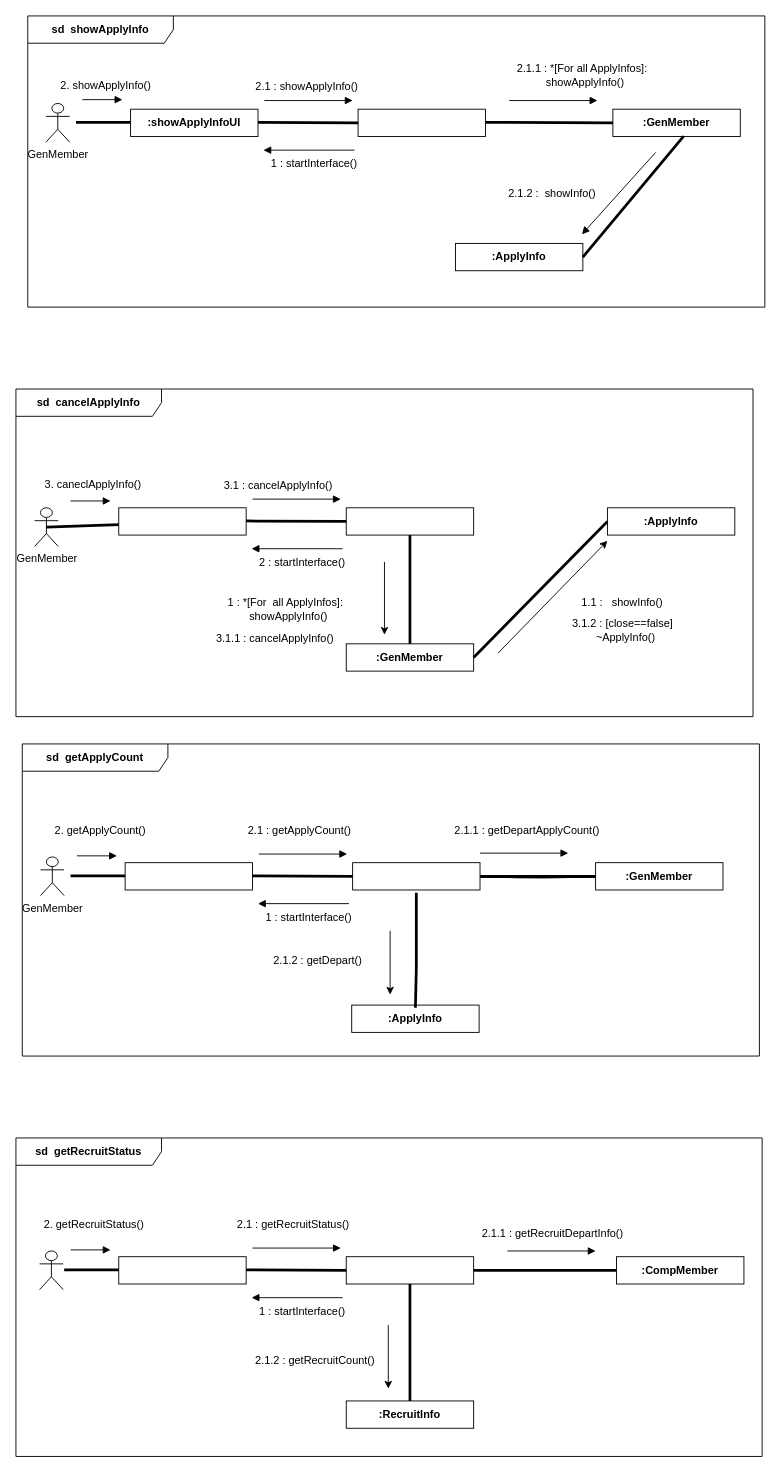
Some shapes in this 781 by 1472 pixel diagram are drawn without their labels. Here are the shapes that lost their labels. From the top down, the centre of each, then its label:
At point (421, 122): ": showApplyInfo".
At point (182, 521): ":cancelApplyInfoUI".
At point (409, 521): ":cancelApplyInfo".
At point (188, 876): ": getApplyCount UI".
At point (416, 876): ": getApplyCount".
At point (51, 1270): "CompMember".
At point (182, 1270): ": getApplyStatusUI".
At point (409, 1270): ": getApplyStatus".
